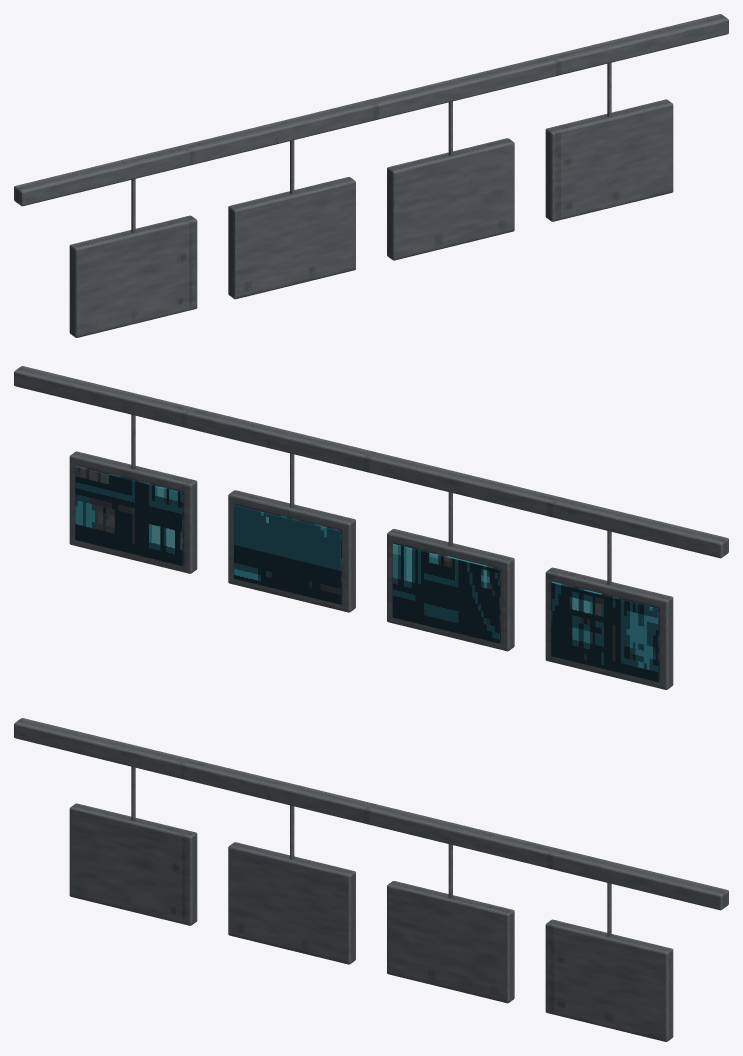
Rendered from base_hanging_screens.glb.
3 views of the same model, one above another, from view 1: azimuth 30°, elevation 25°; view 2: azimuth 150°, elevation 25°; view 3: azimuth 330°, elevation 25° (orthographic).
Parts seen in each view (by area): view 1: base_hanging_screens; view 2: base_hanging_screens; view 3: base_hanging_screens.
Boxes of the visible parts, x1,y1,x2,y2 form: base_hanging_screens: (14, 14, 728, 337); base_hanging_screens: (14, 366, 728, 689); base_hanging_screens: (14, 718, 728, 1041).
Size of the model in its own units: 5.8 by 1.26 by 0.13.
2 materials, 2 textured.
